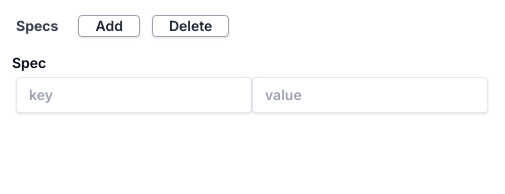
Scenario: should render two new inputs  on 'Add' button click
This screenshot has width=505, height=194.
Click the button "Add": (109, 26) [78, 15, 140, 37]
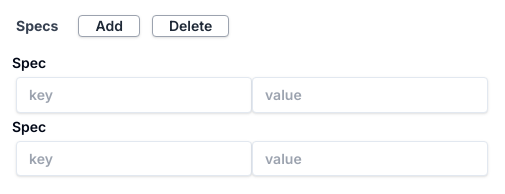
Check: the number of fields is 4, box [16, 77, 252, 112]; [252, 77, 488, 112]; [16, 140, 252, 176]; [252, 140, 488, 176]
